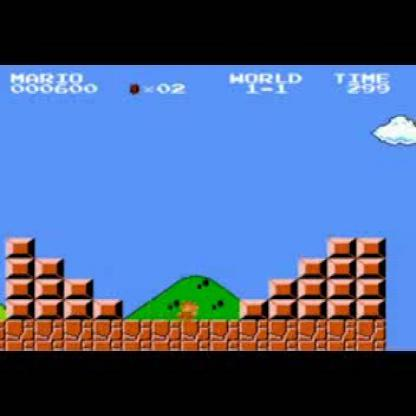Hoyo: (378, 318, 415, 351)
